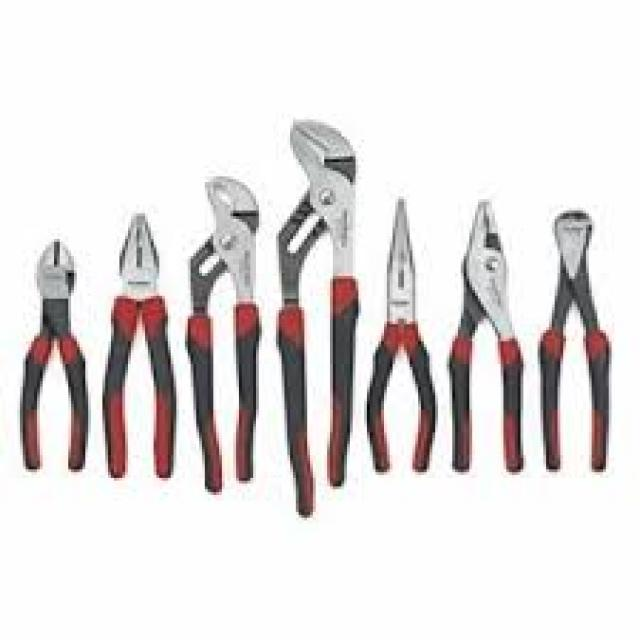pliers: (264, 108, 366, 522), (183, 170, 272, 500), (439, 192, 530, 488), (531, 199, 621, 486), (98, 204, 182, 490), (364, 192, 442, 486), (10, 231, 98, 481)
